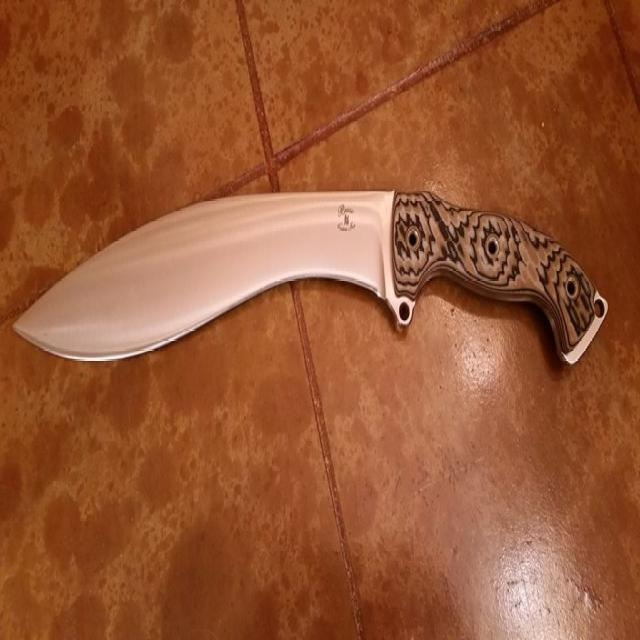Knife: (15, 191, 608, 363)
